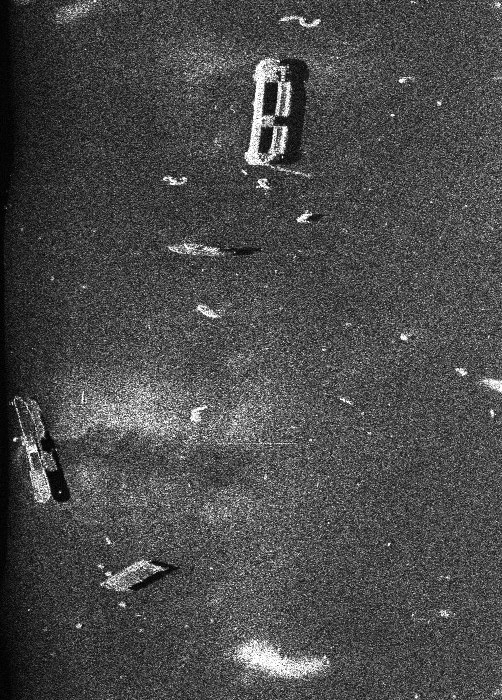ship: (242, 52, 296, 168), (7, 391, 60, 508), (96, 556, 171, 595), (163, 237, 234, 259)
